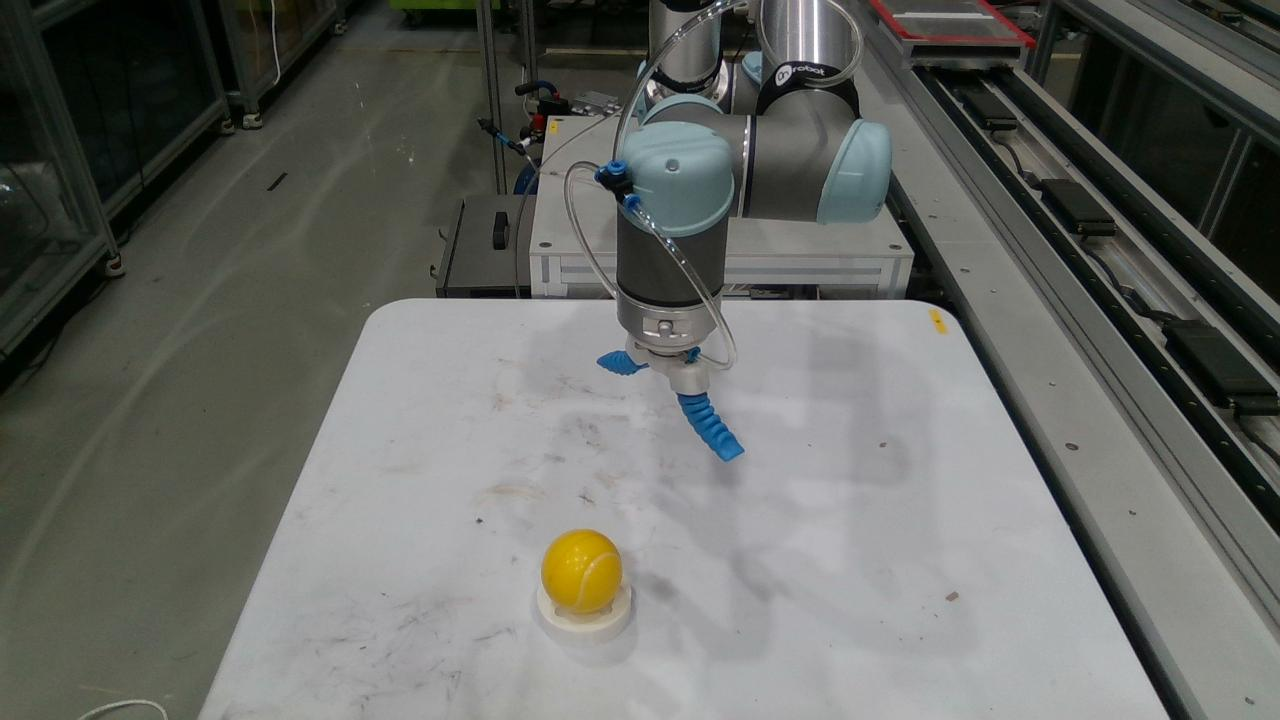UR5: (615, 0, 892, 395)
gripper_left: (597, 350, 648, 375)
gripper_right: (677, 393, 744, 461)
target: (541, 530, 622, 615), (536, 581, 634, 647)
